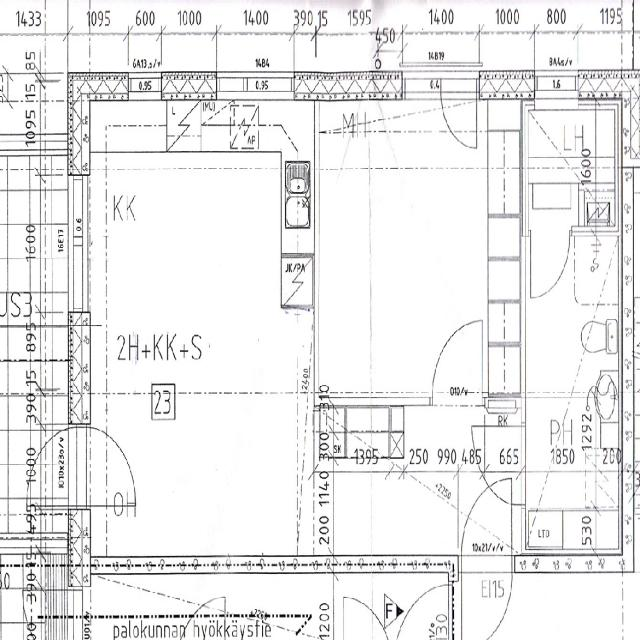door: (68, 426, 140, 506), (17, 426, 89, 506), (462, 476, 512, 572), (470, 426, 526, 506), (432, 318, 482, 405), (462, 554, 512, 640), (530, 226, 570, 298), (442, 72, 476, 154)
